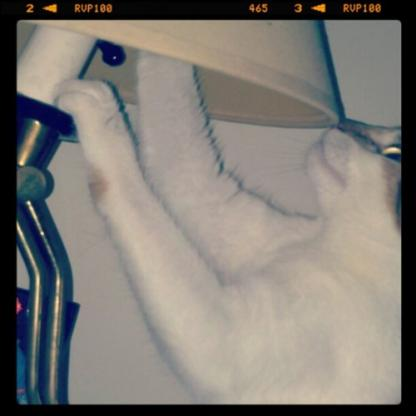Target: (73, 34, 400, 404)
